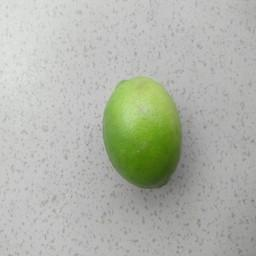Good_lime: (100, 71, 184, 188)
